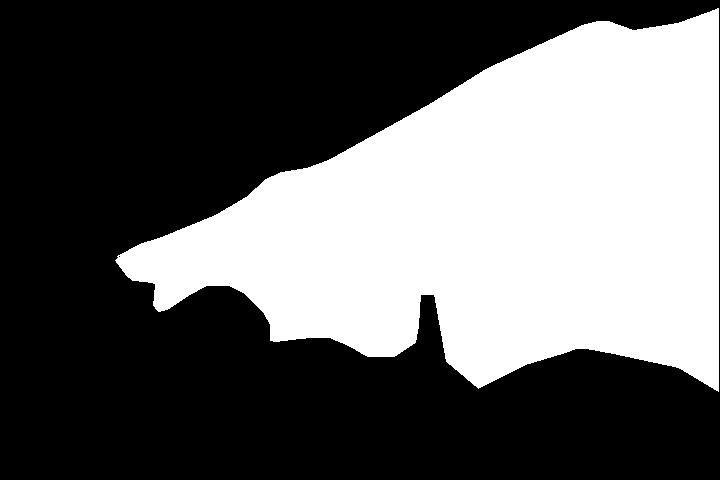Fire: (103, 54, 720, 369)
